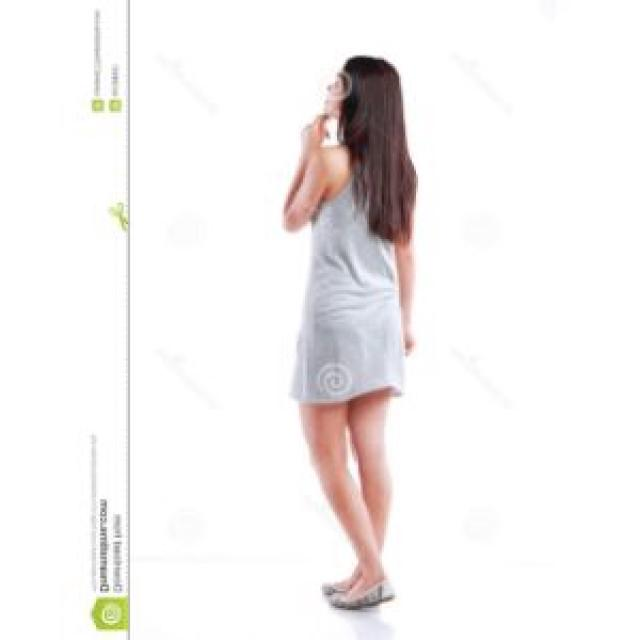adult: (277, 30, 444, 614)
